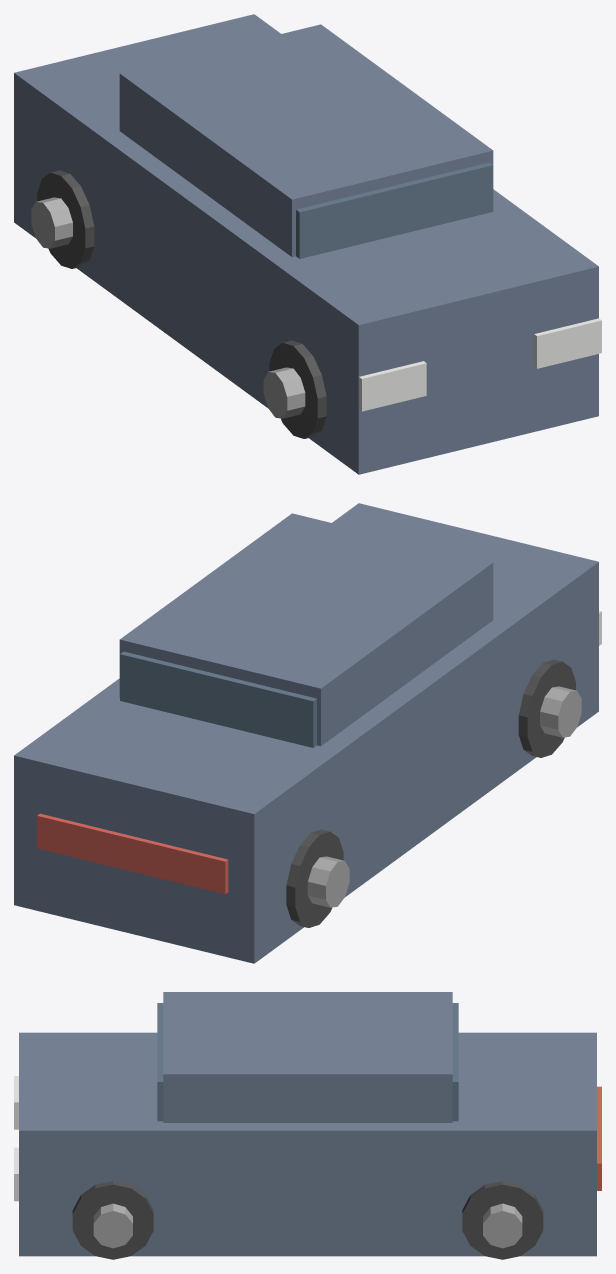
The model's file is mid_sedan.glb.
The picture shows the model from 3 angles, top to bottom: view 1: azimuth 30°, elevation 25°; view 2: azimuth 150°, elevation 25°; view 3: azimuth 270°, elevation 25°; orthographic projection. The views are drawn at different scales.
Parts seen in each view (by area): view 1: body, cabin, glass_f, wheel_rr, wheel_fr, headlamp_l, headlamp_r, hub_-1_1, hub_-1_-1; view 2: body, cabin, glass_r, taillamp, wheel_fr, wheel_rr, hub_-1_-1, hub_-1_1; view 3: body, cabin, wheel_fl, wheel_rl, hub_1_1, hub_1_-1, glass_f, glass_r, taillamp.
Boxes of the visible parts, box(x1,y1,x2,y2) form: body: box(14, 14, 598, 474); cabin: box(119, 24, 493, 257); glass_f: box(296, 162, 493, 258); wheel_rr: box(37, 170, 94, 268); wheel_fr: box(269, 340, 326, 438); headlamp_l: box(359, 361, 426, 411); headlamp_r: box(534, 318, 601, 368); hub_-1_1: box(263, 367, 305, 418); hub_-1_-1: box(31, 197, 72, 248); body: box(14, 503, 598, 963); cabin: box(119, 513, 493, 746); glass_r: box(120, 651, 316, 747); taillamp: box(37, 813, 228, 894); wheel_fr: box(518, 659, 575, 757); wheel_rr: box(286, 829, 343, 927); hub_-1_-1: box(307, 856, 349, 907); hub_-1_1: box(540, 686, 581, 737); body: box(19, 1032, 596, 1256); cabin: box(163, 992, 452, 1122); wheel_fl: box(72, 1181, 153, 1259); wheel_rl: box(462, 1181, 543, 1259); hub_1_1: box(93, 1203, 132, 1248); hub_1_-1: box(483, 1203, 522, 1248); glass_f: box(157, 1003, 163, 1121); glass_r: box(452, 1003, 458, 1121); taillamp: box(597, 1086, 601, 1190).
Bounding box in the file's own units: 2.27 × 1.53 × 4.68.
